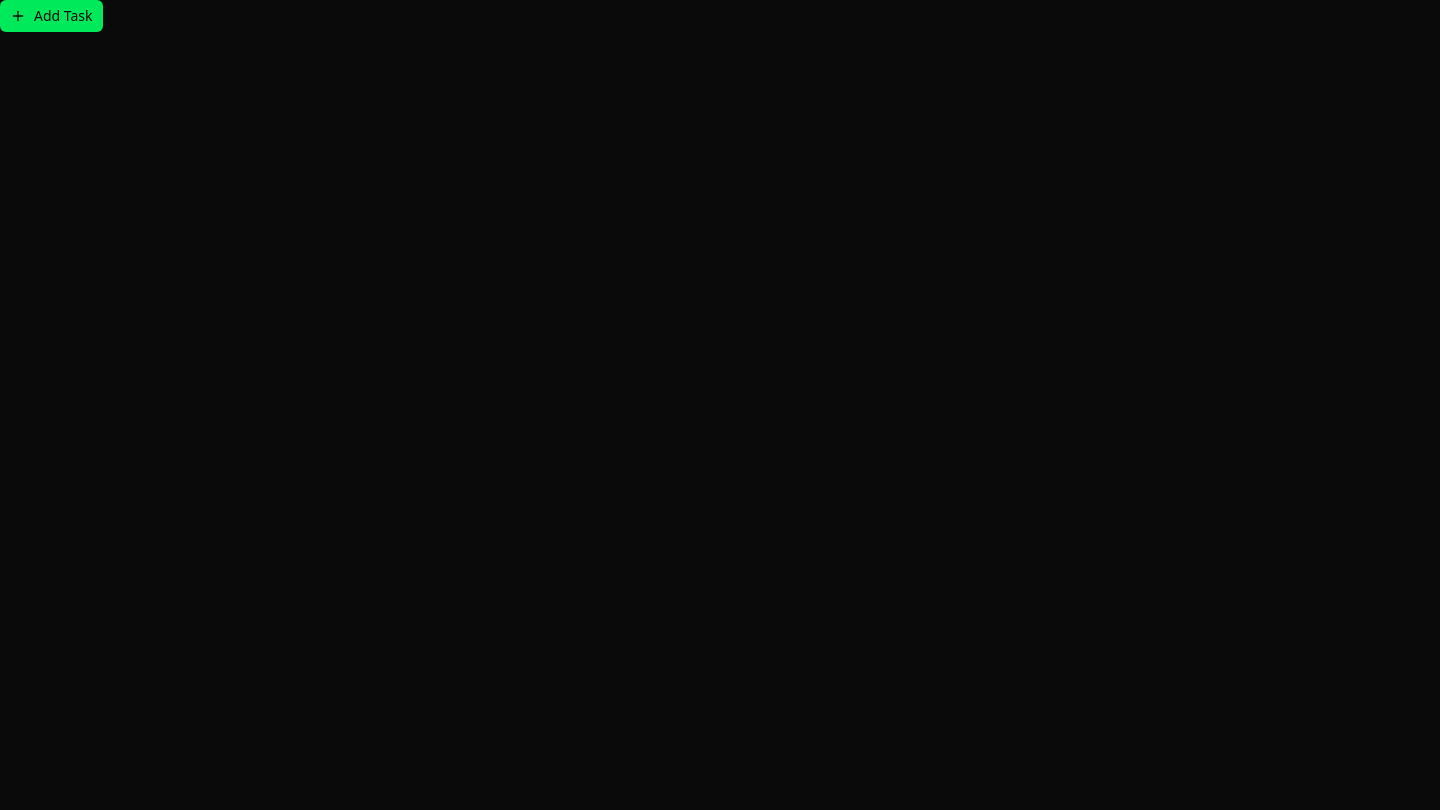
Scenario: AddTaskDialog › opens dialog when add task button is clicked
Click the button "Add Task": (51, 16) [0, 0, 102, 32]
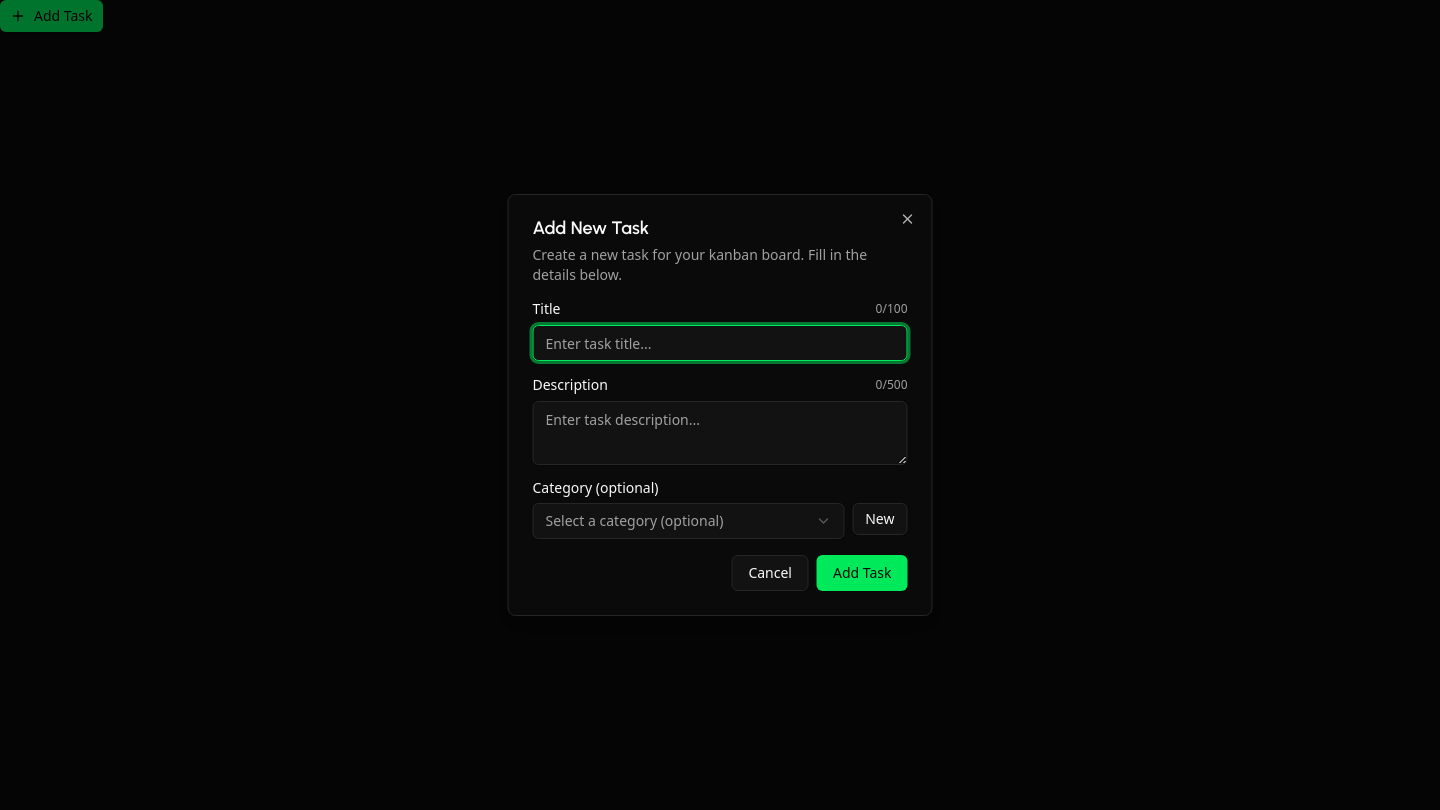
Expected: the heading "Add New Task" is shown, [532, 217, 649, 239]
